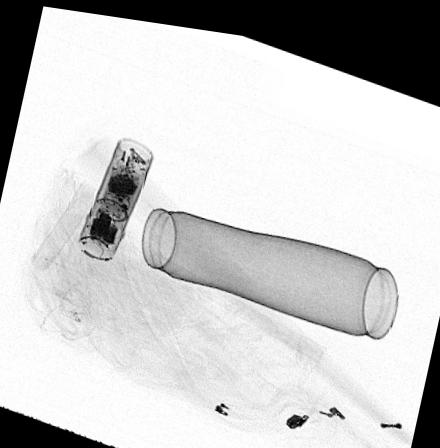Baton: (76, 132, 153, 260)
